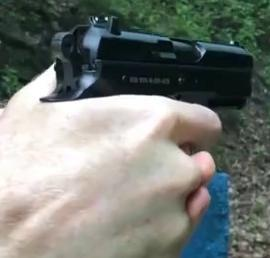gun: (1, 1, 270, 258)
